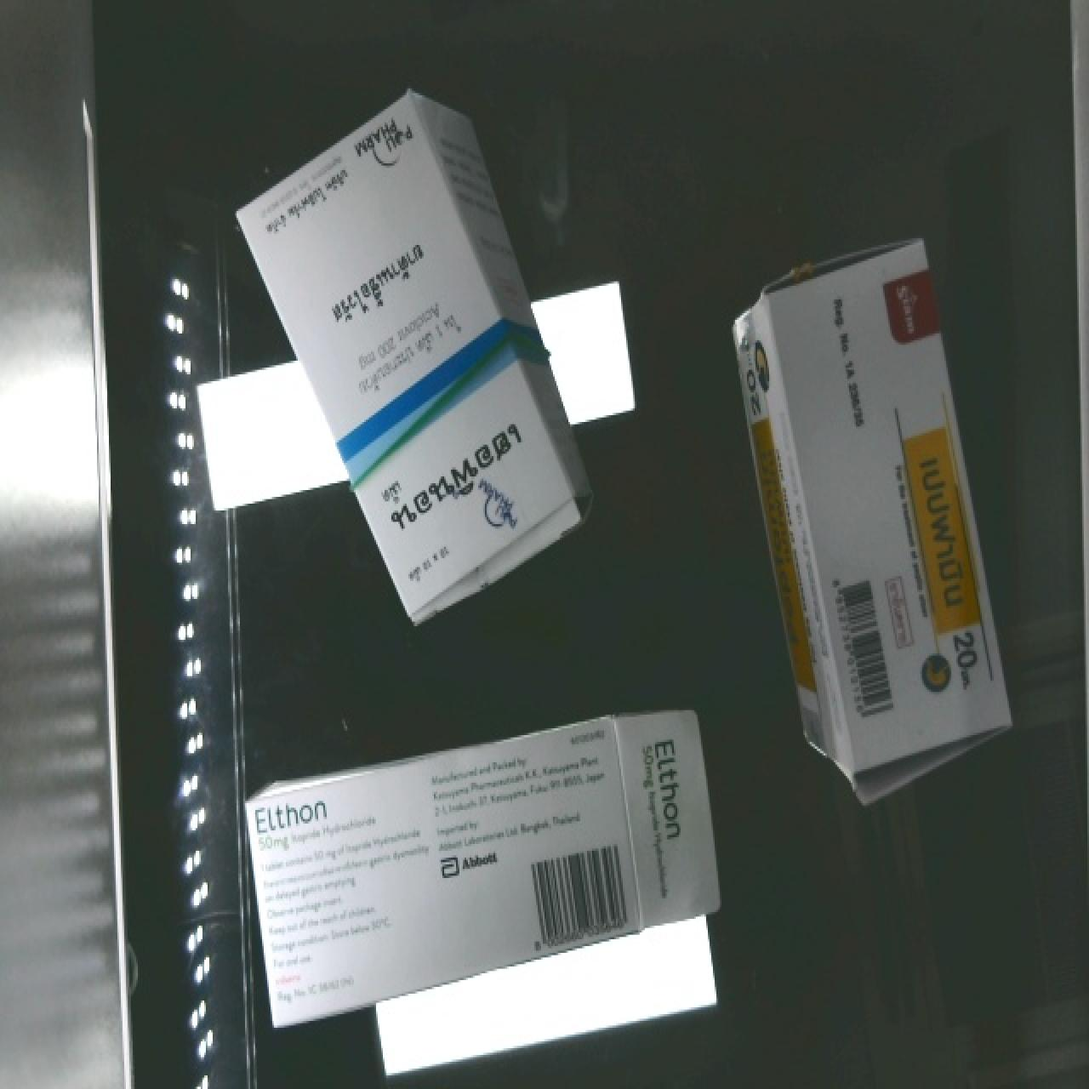medicine_label_obb: (354, 382, 562, 561), (889, 419, 1002, 713), (245, 780, 361, 849)
